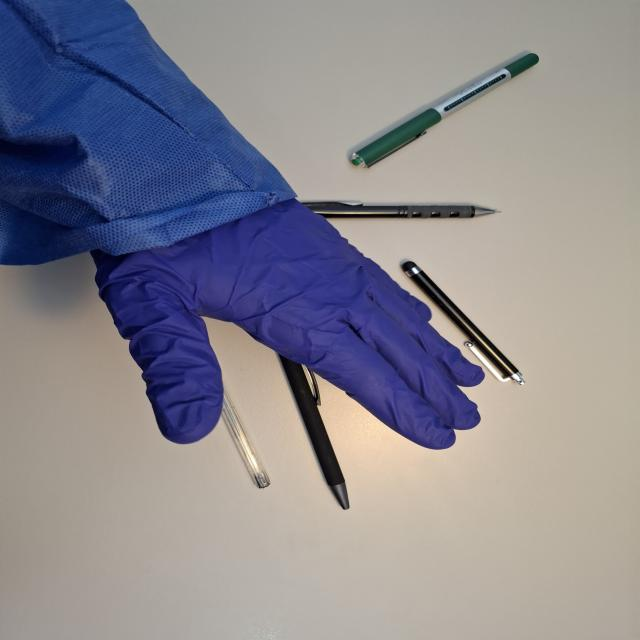glove_on: (83, 185, 490, 452)
